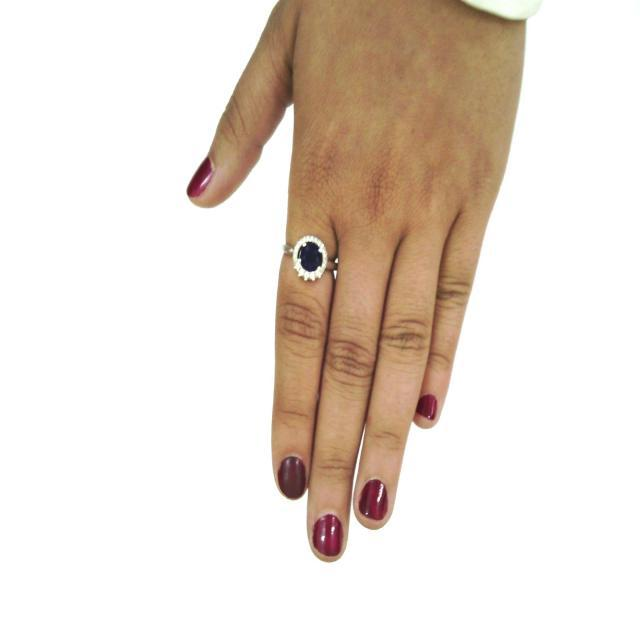Fingernail: (313, 514, 342, 556), (359, 479, 387, 519), (280, 457, 305, 499), (187, 158, 213, 198), (418, 394, 436, 419)
